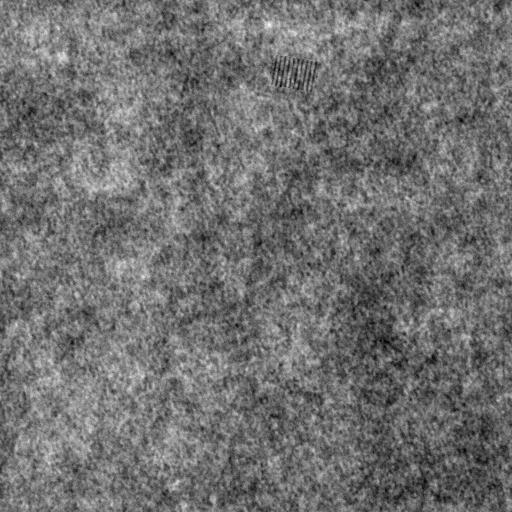impact: (266, 54, 319, 98)
